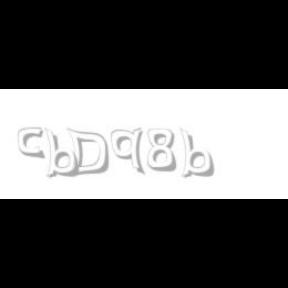8: (148, 128, 176, 172)
D: (66, 128, 110, 178)
b: (44, 128, 82, 178), (179, 128, 217, 178)
c: (17, 128, 46, 160)
q: (110, 128, 146, 176)
